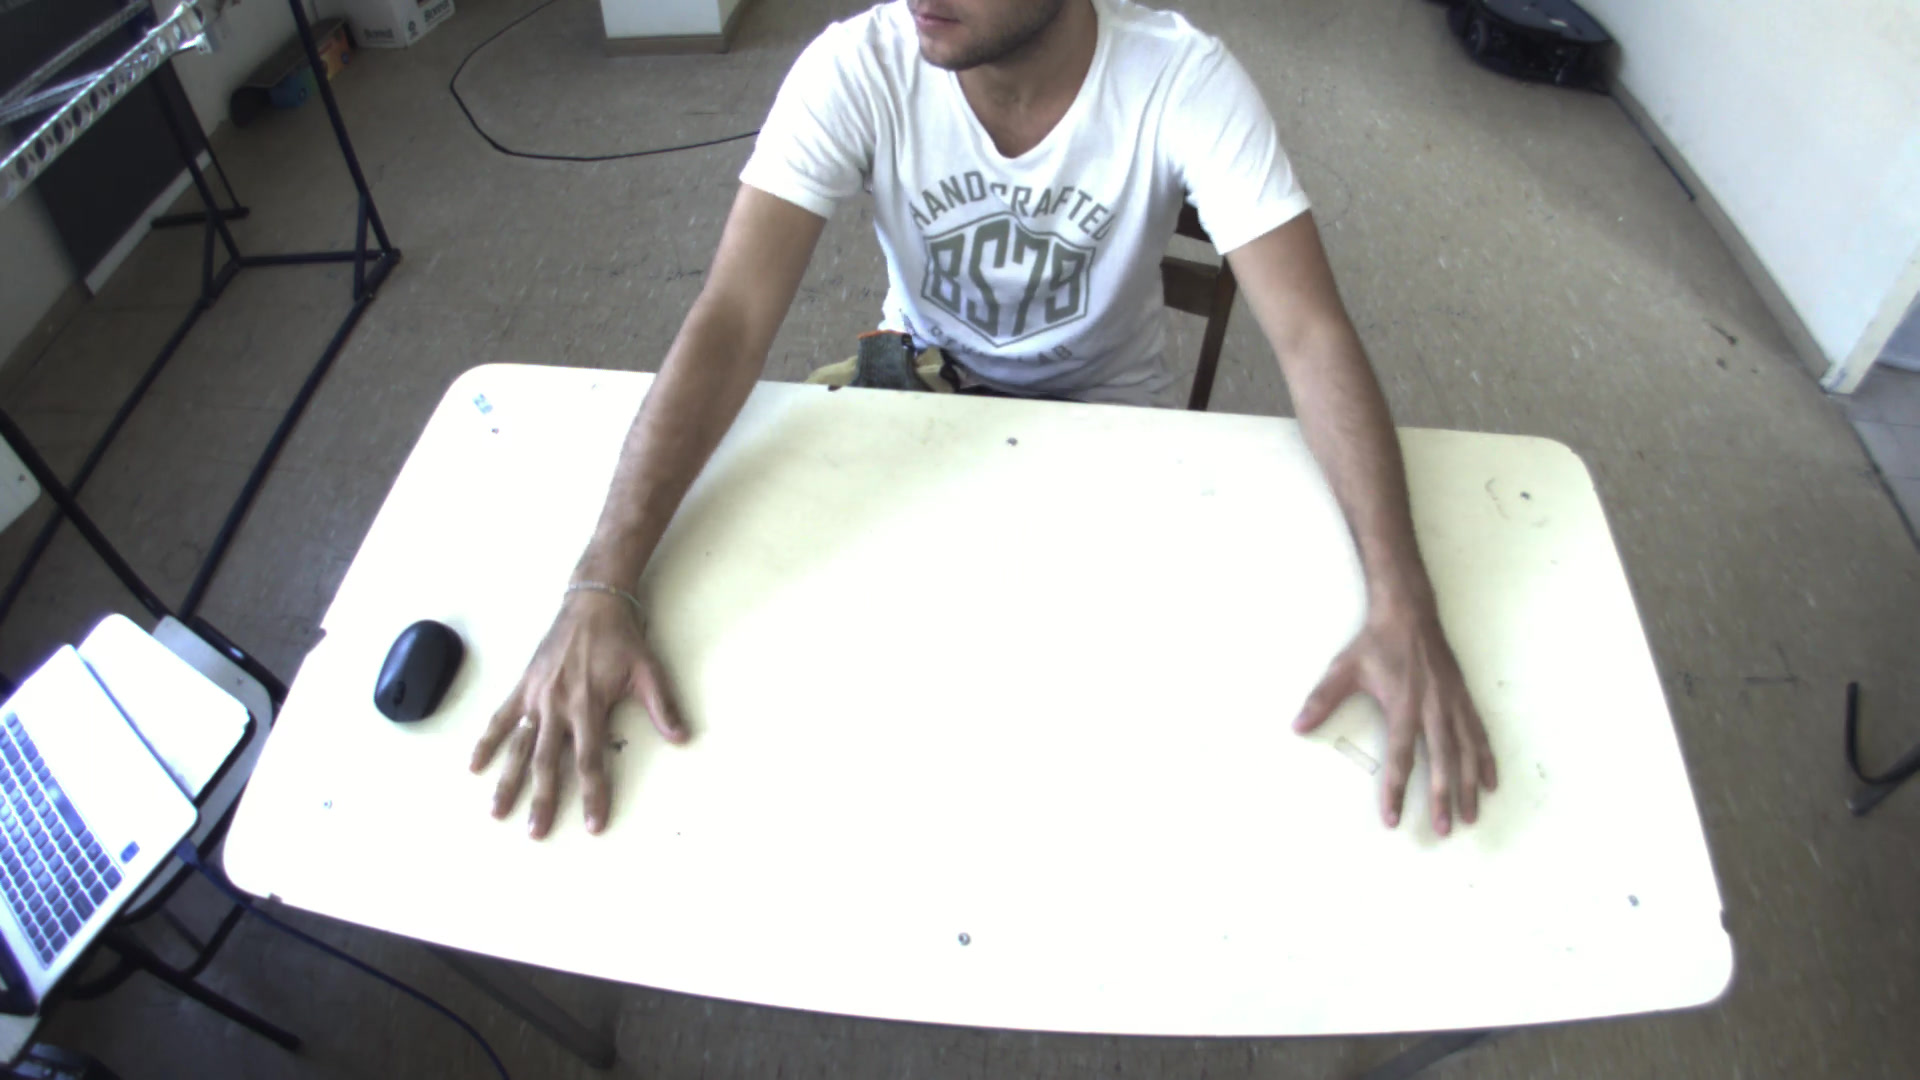hand: (451, 580, 692, 851), (1298, 601, 1520, 843)
